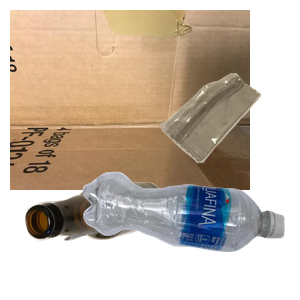cardboard: (10, 10, 250, 190)
glass: (23, 179, 183, 300)
plastic: (80, 169, 300, 300)
trash: (158, 71, 300, 227)
